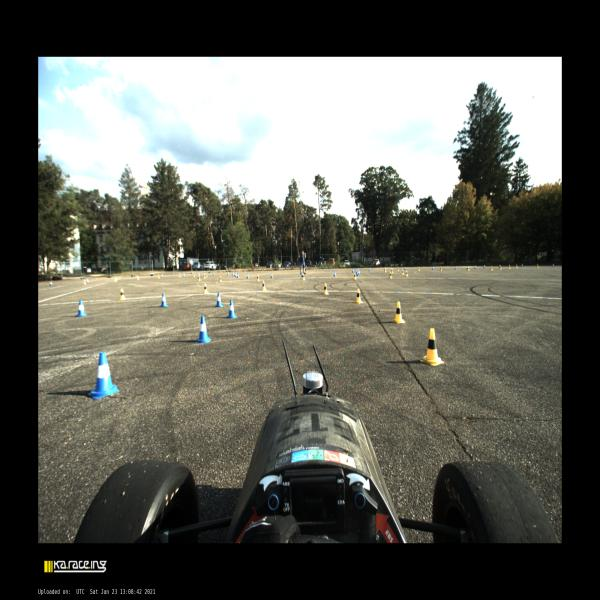blue_cone: (88, 352, 120, 400), (195, 316, 212, 344), (226, 300, 238, 318), (75, 300, 87, 317), (216, 292, 224, 308), (160, 293, 167, 307), (246, 273, 249, 279), (355, 268, 358, 274), (270, 273, 273, 278), (301, 272, 304, 277), (334, 271, 336, 277), (368, 267, 371, 271), (236, 273, 238, 278), (356, 271, 358, 276), (50, 281, 52, 286), (235, 272, 237, 277), (358, 270, 360, 275), (352, 269, 354, 273), (432, 266, 434, 270), (87, 279, 89, 283), (198, 272, 200, 276), (213, 272, 215, 276), (232, 272, 234, 276), (357, 268, 359, 272), (466, 266, 468, 270), (521, 264, 523, 267), (552, 264, 554, 267), (183, 273, 185, 276), (227, 272, 229, 275), (234, 272, 235, 277), (455, 266, 456, 270), (474, 266, 476, 268), (162, 274, 163, 278), (484, 265, 485, 268), (405, 267, 406, 270)
yellow_cone: (420, 328, 444, 366), (392, 301, 406, 323), (355, 288, 363, 304), (120, 288, 126, 300), (203, 283, 209, 294), (323, 283, 329, 294), (262, 280, 266, 290), (353, 273, 357, 280), (389, 272, 393, 279), (83, 279, 87, 285), (257, 274, 260, 281), (114, 277, 118, 282), (219, 276, 222, 282), (401, 269, 404, 275), (302, 274, 305, 280), (391, 268, 393, 274), (490, 266, 493, 270), (499, 266, 502, 270), (198, 275, 200, 281), (468, 266, 470, 271), (406, 271, 408, 276), (440, 267, 442, 271), (418, 267, 420, 271), (384, 268, 386, 272), (397, 267, 399, 271), (516, 264, 518, 268), (536, 264, 538, 268), (137, 276, 139, 280), (158, 274, 160, 278), (179, 274, 181, 278), (193, 273, 195, 277), (509, 265, 510, 269), (204, 274, 205, 278), (206, 273, 207, 277)
